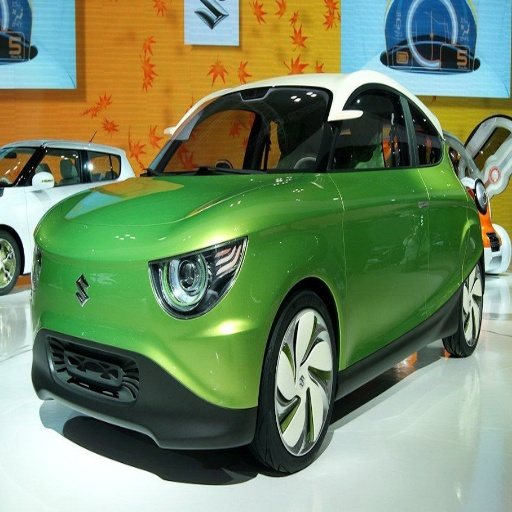front_bumper: (45, 299, 269, 448)
front_glass: (151, 89, 329, 173)
front_left_door: (349, 215, 428, 363), (341, 89, 392, 124)
trunk: (55, 224, 157, 297)
